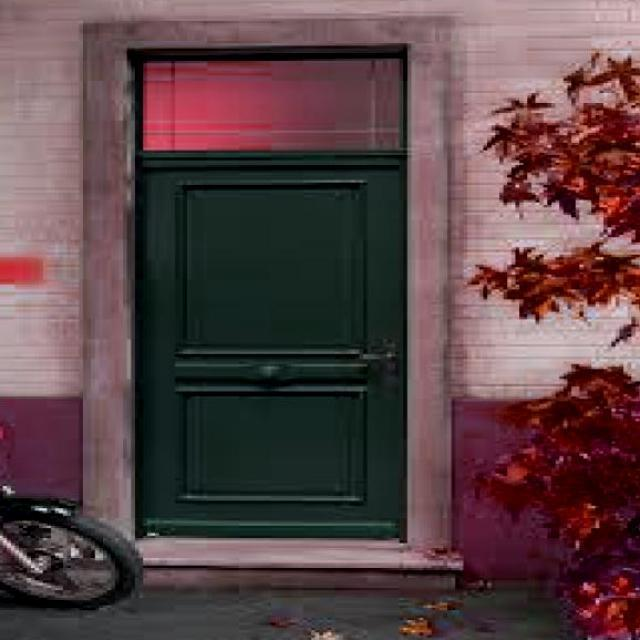door: (137, 156, 407, 539)
